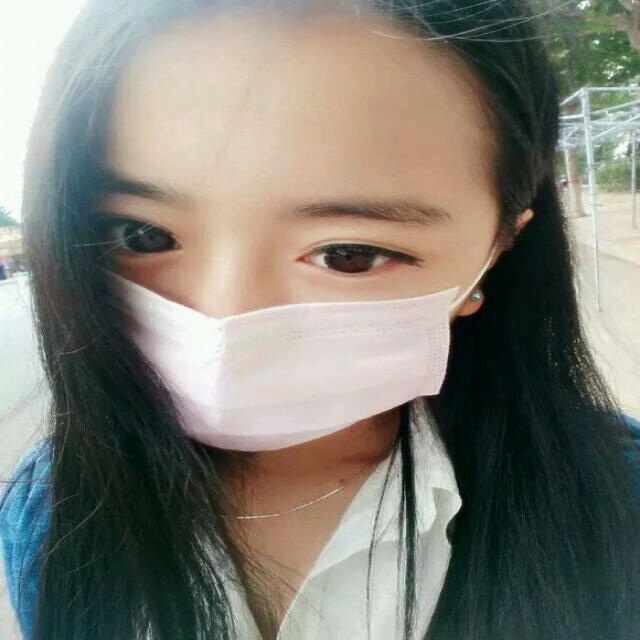mask: (72, 21, 466, 453)
